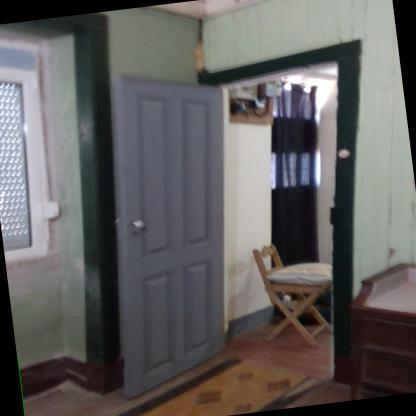open: (88, 40, 403, 403)
